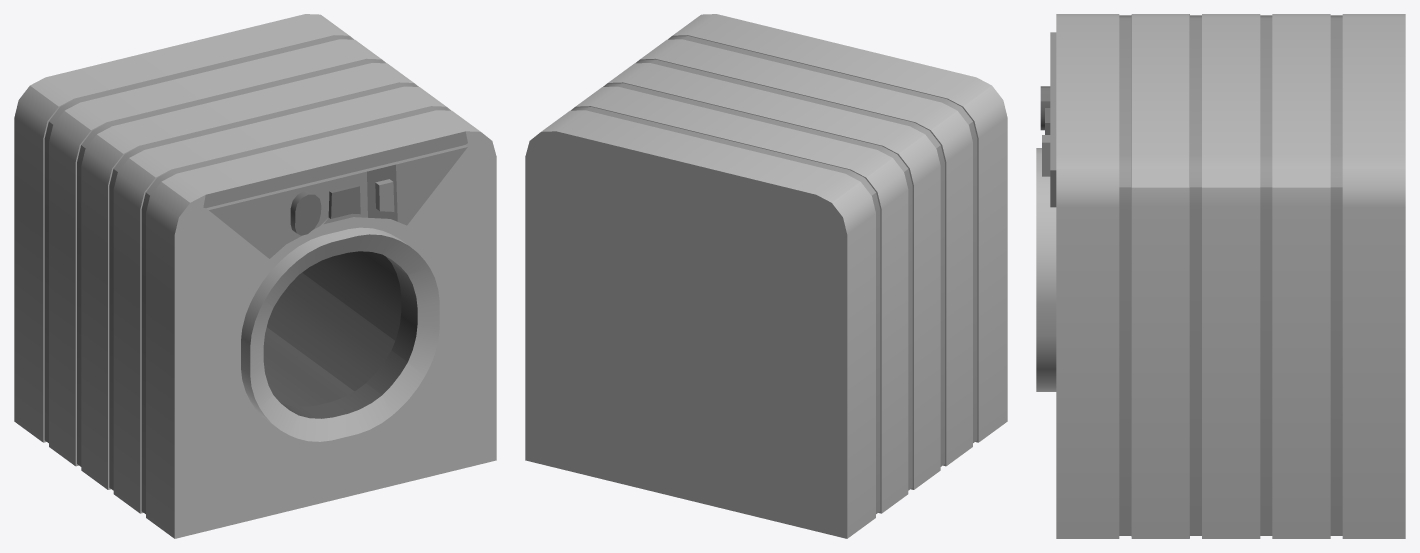
The model's file is Mesincuci.fbx.
3 renders of one model, left to right at view 1: azimuth 30°, elevation 25°; view 2: azimuth 150°, elevation 25°; view 3: azimuth 270°, elevation 25°, orthographic. The views are drawn at different scales.
Visible parts, largest first — view 1: Mesincuci_LOD0; view 2: Mesincuci_LOD0; view 3: Mesincuci_LOD0.
Part boxes in pixels (x1,y1,x2,y2): Mesincuci_LOD0: (14,14,496,538); Mesincuci_LOD0: (525,14,1007,538); Mesincuci_LOD0: (1036,14,1405,538).
Size of what is drawn, in the model's own units: 96.88 by 96.88 by 88.44.
